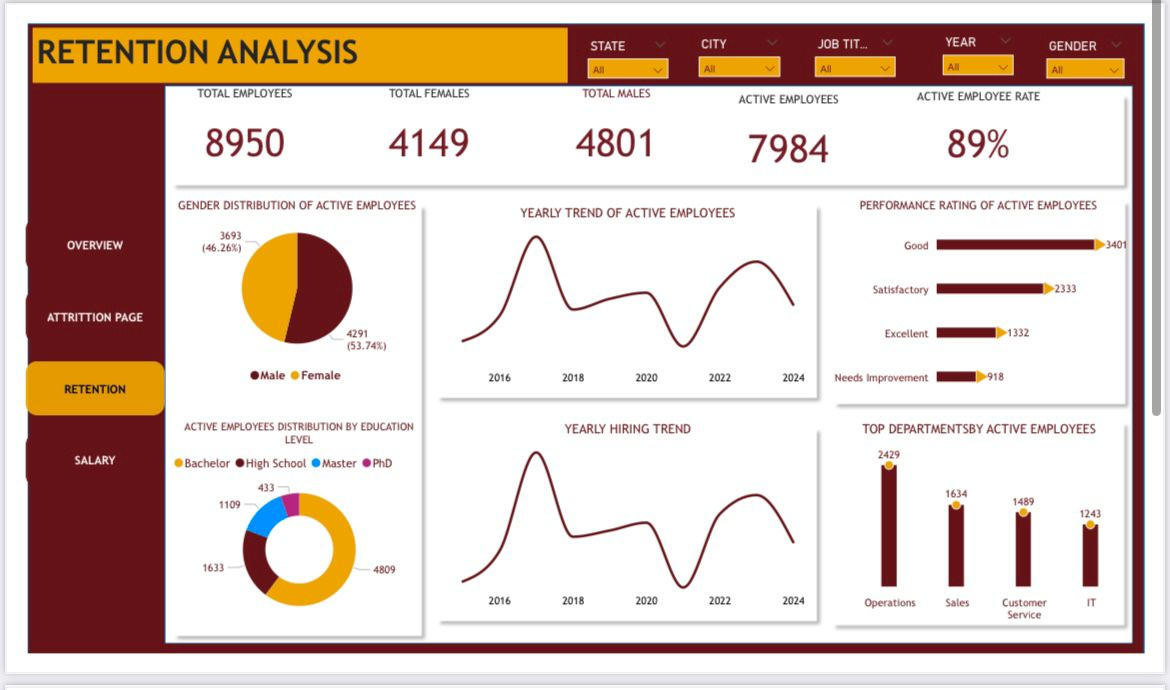

The page's visual inventory and layout, read from the dashboard file:
{"tool":"powerbi","page":{"name":"RETENTION","canvas":[1280,720],"ordinal":2},"visuals":[{"type":"shape","box":[1.7,0,1278.8,720.6],"z":0},{"type":"shape","box":[159,71.2,1108.2,637.7],"z":1000},{"type":"shape","box":[160.7,198.8,301.5,510.2],"z":2000},{"type":"slicer","fields":{"Values":["HumanResources (2).Gender"]},"box":[1157.9,11.6,109.3,53],"z":3000},{"type":"slicer","fields":{"Values":["HumanResources (2).hireYear"]},"box":[1038.6,8.3,101,56.3],"z":4000},{"type":"shape","box":[462.2,198.8,452.2,238.5],"z":5000},{"type":"shape","box":[462.2,453.9,452.2,238.5],"z":6000},{"type":"shape","box":[916,193.8,351.2,250.1],"z":7000},{"type":"shape","box":[914.4,447.2,351.2,250.1],"z":8000},{"type":"shape","box":[159,72.9,1106.5,120.9],"z":9000},{"type":"pieChart","title":"GENDER DISTRIBUTION OF ACTIVE EMPLOYEES","fields":{"Category":["HumanResources (2).Gender"],"Y":["measures (2).Active_Employees"]},"box":[164,198.8,293.2,222],"z":10000},{"type":"barChart","title":"PERFORMANCE RATING OF ACTIVE EMPLOYEES","fields":{"Y":["measures (2).Active_Employees"],"Category":["HumanResources (2).Performance Rating"]},"box":[914.4,198.8,351.2,238.5],"z":11000},{"type":"donutChart","title":"ACTIVE EMPLOYEES DISTRIBUTION BY EDUCATION LEVEL","fields":{"Category":["HumanResources (2).Education Level"],"Y":["measures (2).Active_Employees"]},"box":[164,453.9,298.2,238.5],"z":12000},{"type":"columnChart","title":"TOP DEPARTMENTSBY ACTIVE EMPLOYEES","fields":{"Y":["measures (2).Active_Employees"],"Category":["HumanResources (2).Department"]},"box":[916,453.9,349.5,236.9],"z":13000},{"type":"lineChart","title":"YEARLY TREND OF ACTIVE EMPLOYEES","fields":{"Category":["HumanResources (2).Hiredate.Variation.Date Hierarchy.Year"],"Y":["measures (2).Active_Employees"]},"box":[482,207.1,414.1,213.7],"z":14000},{"type":"lineChart","title":"YEARLY HIRING TREND","fields":{"Y":["measures (2).Total_Employees"],"Category":["HumanResources (2).Hiredate.Variation.Date Hierarchy.Year"]},"box":[482,453.9,414.1,222],"z":15000},{"type":"card","title":"TOTAL EMPLOYEES","fields":{"Values":["measures (2).Total_Employees"]},"box":[164,71.2,173.9,111],"z":16000},{"type":"card","title":"TOTAL FEMALES","fields":{"Values":["measures (2).Total Females"]},"box":[374.4,71.2,175.6,111],"z":17000},{"type":"card","title":"ACTIVE EMPLOYEES","fields":{"Values":["measures (2).Active_Employees"]},"box":[796.8,77.9,152.4,111],"z":18000},{"type":"card","title":"TOTAL MALES","fields":{"Values":["measures (2).Total Males"]},"box":[599.6,71.2,152.4,111],"z":19000},{"type":"card","title":"ACTIVE EMPLOYEE RATE","fields":{"Values":["measures (2).active emp Percentage"]},"box":[997.2,74.5,187.2,104.4],"z":20000},{"type":"slicer","fields":{"Values":["HumanResources (2).Job Title"]},"box":[892.8,9.9,112.6,61.3],"z":21000},{"type":"slicer","fields":{"Values":["HumanResources (2).City"]},"box":[760.3,9.9,112.6,61.3],"z":22000},{"type":"slicer","fields":{"Values":["HumanResources (2).State"]},"box":[632.8,11.6,112.6,61.3],"z":23000},{"type":"pageNavigator","box":[0,222,159,308.1],"z":24000},{"type":"textbox","box":[8.3,5,611.2,62.9],"z":25000}]}

Visuals, with their boxes on the page's 1280x720 design canvas (x1, y1, x2, y2). These are canvas units, not pixel positions in the 1170x690 screenshot, which may show the page scaled, cropped or inside an application window:
shape: BBox(2, 0, 1280, 721)
shape: BBox(159, 71, 1267, 709)
shape: BBox(161, 199, 462, 709)
slicer - HumanResources (2).Gender: BBox(1158, 12, 1267, 65)
slicer - HumanResources (2).hireYear: BBox(1039, 8, 1140, 65)
shape: BBox(462, 199, 914, 437)
shape: BBox(462, 454, 914, 692)
shape: BBox(916, 194, 1267, 444)
shape: BBox(914, 447, 1266, 697)
shape: BBox(159, 73, 1266, 194)
"GENDER DISTRIBUTION OF ACTIVE EMPLOYEES" pieChart: BBox(164, 199, 457, 421)
"PERFORMANCE RATING OF ACTIVE EMPLOYEES" barChart: BBox(914, 199, 1266, 437)
"ACTIVE EMPLOYEES DISTRIBUTION BY EDUCATION LEVEL" donutChart: BBox(164, 454, 462, 692)
"TOP DEPARTMENTSBY ACTIVE EMPLOYEES" columnChart: BBox(916, 454, 1266, 691)
"YEARLY TREND OF ACTIVE EMPLOYEES" lineChart: BBox(482, 207, 896, 421)
"YEARLY HIRING TREND" lineChart: BBox(482, 454, 896, 676)
"TOTAL EMPLOYEES" card: BBox(164, 71, 338, 182)
"TOTAL FEMALES" card: BBox(374, 71, 550, 182)
"ACTIVE EMPLOYEES" card: BBox(797, 78, 949, 189)
"TOTAL MALES" card: BBox(600, 71, 752, 182)
"ACTIVE EMPLOYEE RATE" card: BBox(997, 74, 1184, 179)
slicer - HumanResources (2).Job Title: BBox(893, 10, 1005, 71)
slicer - HumanResources (2).City: BBox(760, 10, 873, 71)
slicer - HumanResources (2).State: BBox(633, 12, 745, 73)
pageNavigator: BBox(0, 222, 159, 530)
textbox: BBox(8, 5, 620, 68)
